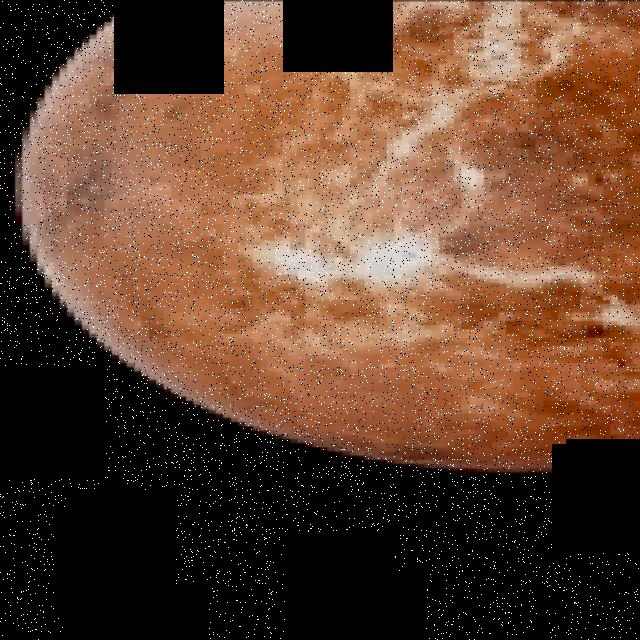Venus: (15, 0, 640, 476)
